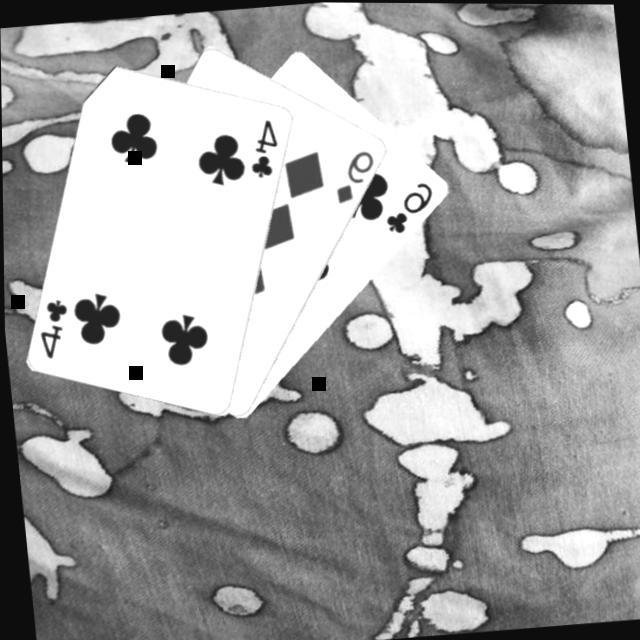4C: (34, 295, 76, 363), (243, 115, 286, 181)
6C: (380, 178, 442, 238)
9D: (329, 146, 383, 208)
